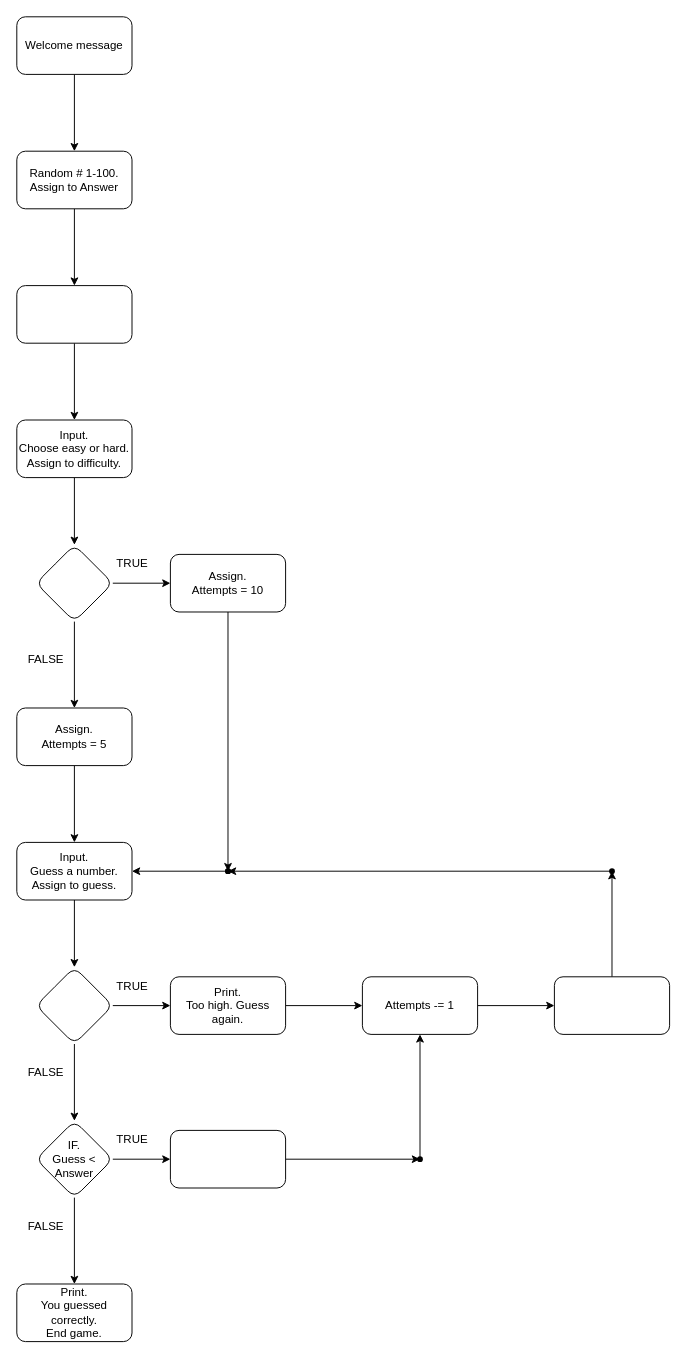
This 686x1358 diagram has some shape labels left out. Here are the shapes that lost their labels. From the top down, the centre of each, then its label:
point (74, 314): Print. I am thinking of a #...
point (74, 583): If. Difficulty == easy.
point (74, 1005): IF. Guess > Answer
point (611, 1005): Print. You have x attempts left...
point (227, 1158): Print. Too low. Guess again.
